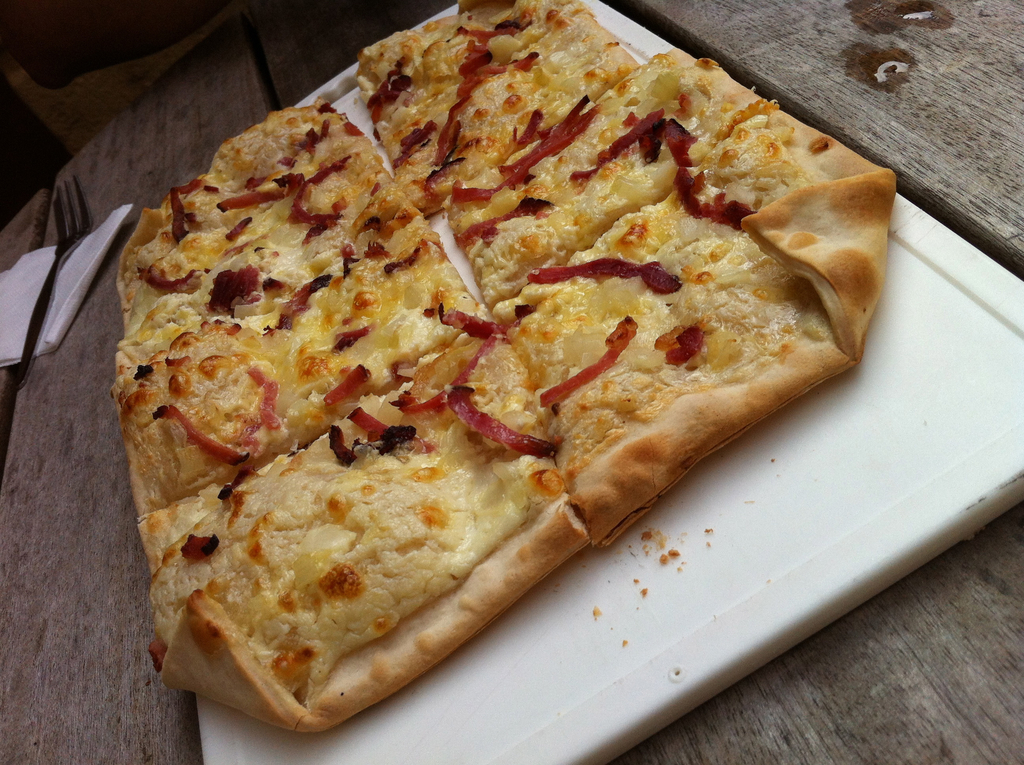Pizza: (86, 40, 881, 724)
